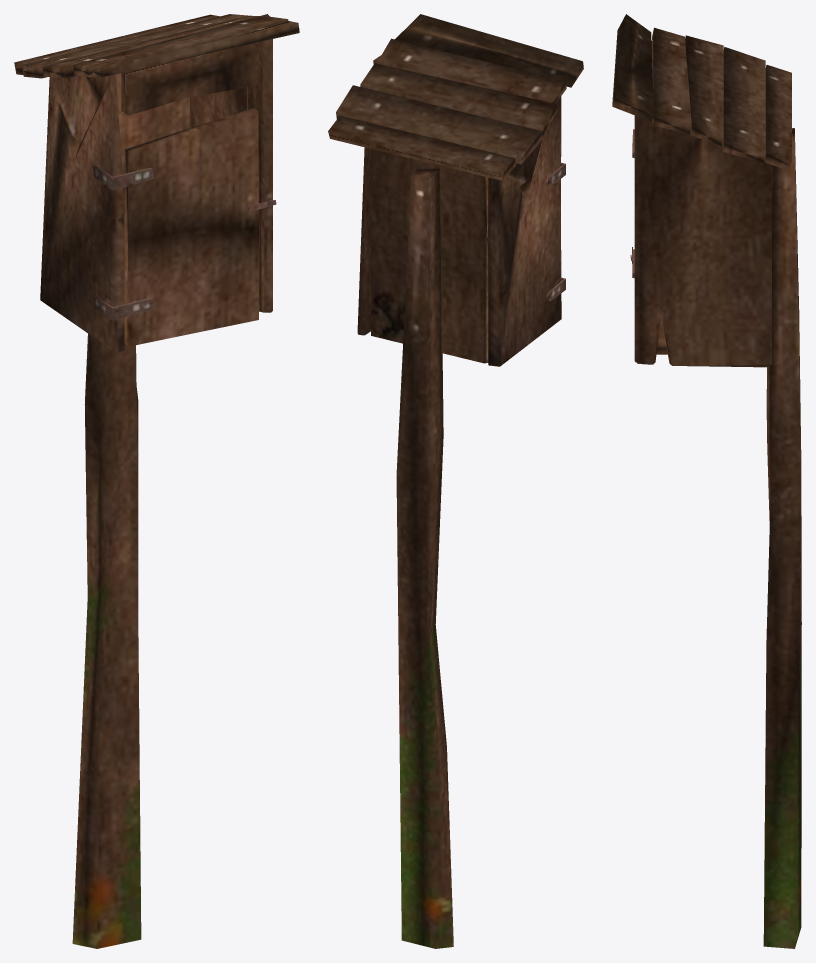
The model's file is mailbox.glb.
3 views of the same model, side by side, from view 1: azimuth 30°, elevation 25°; view 2: azimuth 150°, elevation 25°; view 3: azimuth 270°, elevation 25° (orthographic). The views are drawn at different scales.
Visible parts, largest first — view 1: mailbox; view 2: mailbox; view 3: mailbox.
Boxes of the visible parts, x1,y1,x2,y2 form: mailbox: [14, 14, 299, 948]; mailbox: [328, 14, 583, 948]; mailbox: [612, 14, 801, 948].
Bounding box in the file's own units: 0.2803 × 1.2 × 0.2327.
1 material, 1 textured.
